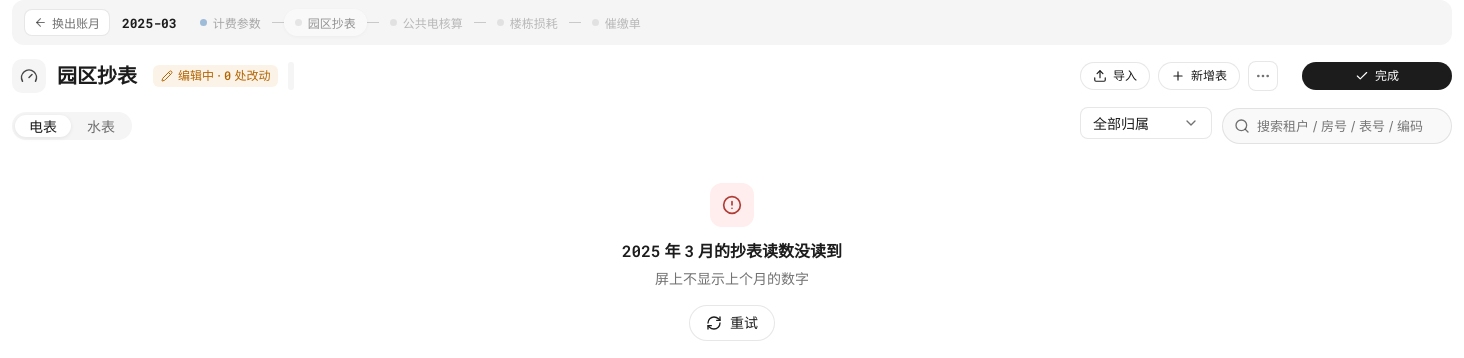
Test: 园区抄表 · 编辑态被接管走之后写口自守 › ❗编辑态里取数挂了,「完成」仍点得动 —— 退得出去,锁才交得回去
The image size is (1464, 358).
Expected: the message "2025 年 3 月的抄表读数没读到 屏上不显示上个月的数字 重试" is shown, [622,183,842,341]
Click the button with class "fp-emb" at (1377, 76), box [1302,62,1452,90]
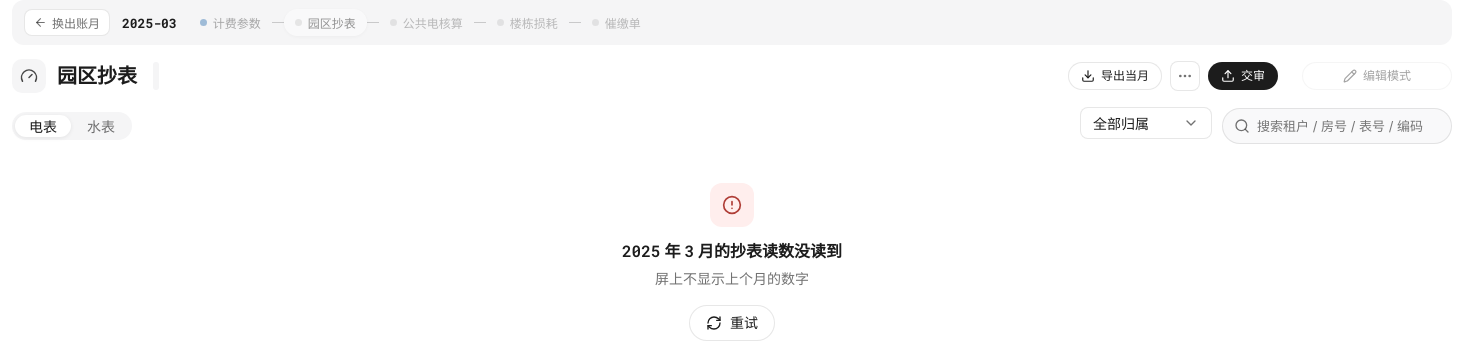
Expected: the button with class "fp-emb" is disabled, [1302,62,1452,90]
